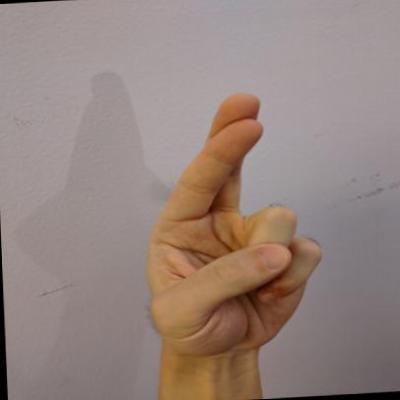hand: (132, 85, 332, 360)
